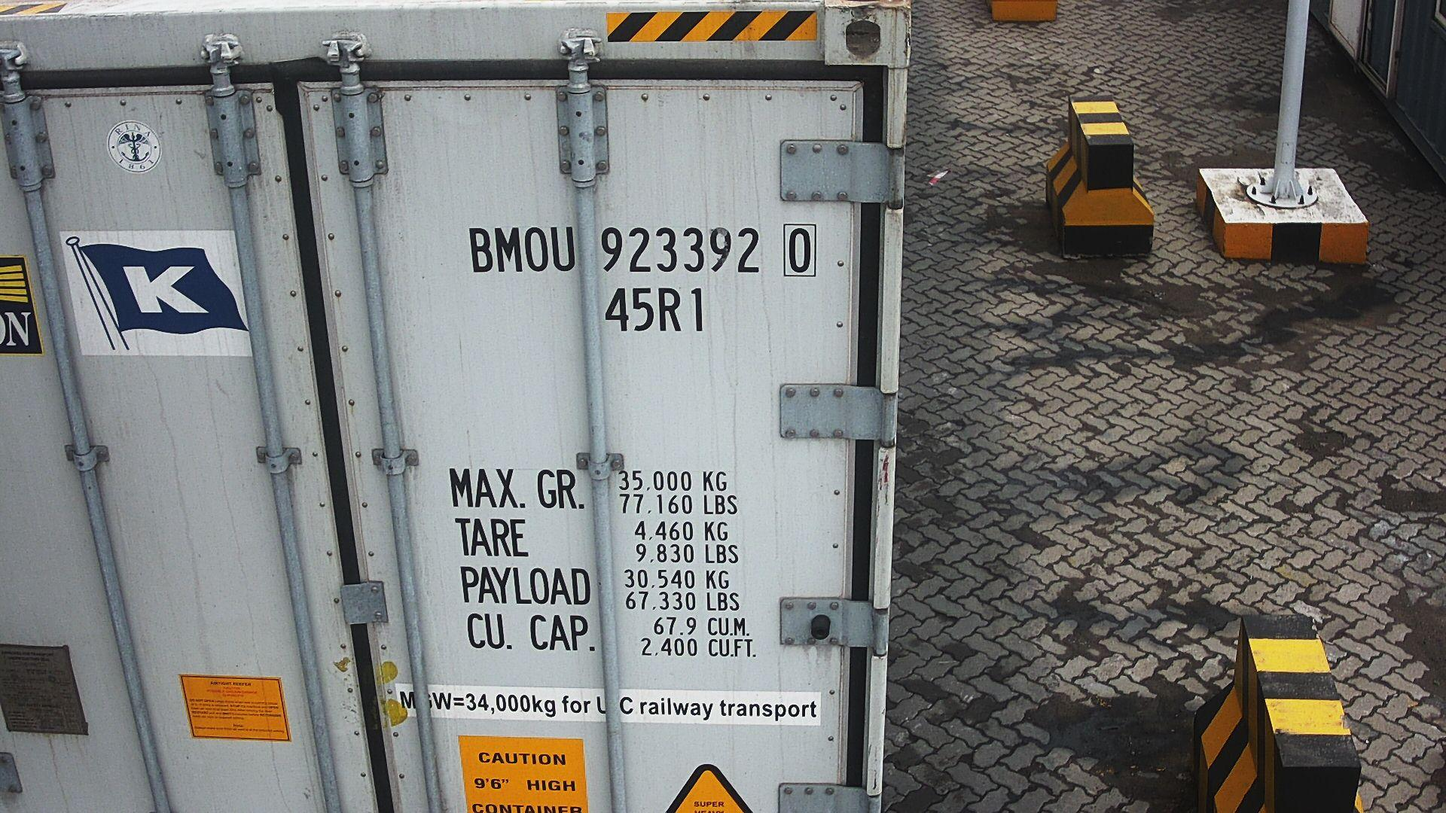container-numbers: (464, 221, 824, 281), (601, 282, 712, 337)
